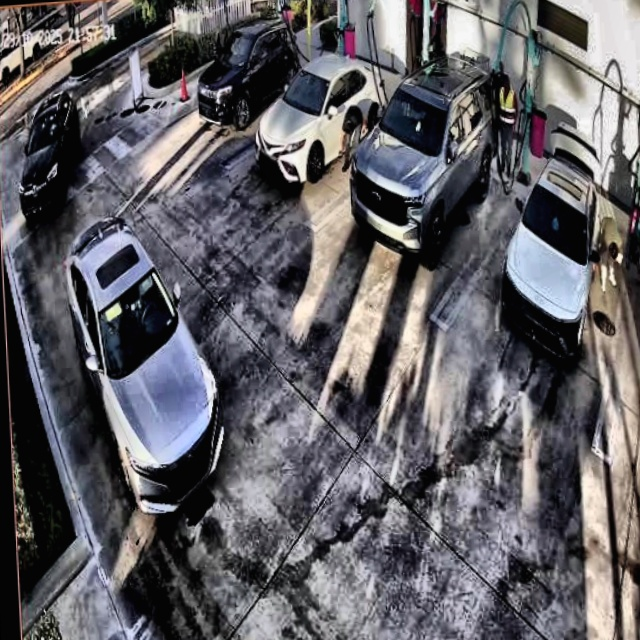Car: (63, 207, 233, 518), (344, 56, 505, 269), (249, 48, 390, 190)
